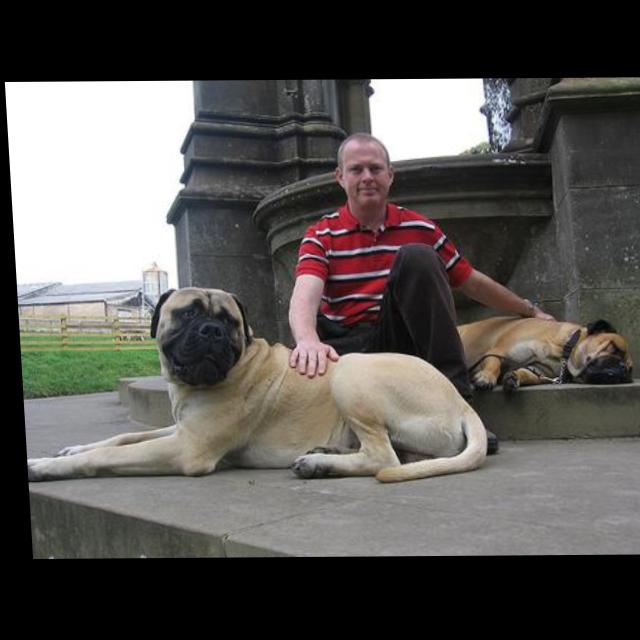bullmastiff: (14, 284, 488, 486), (451, 315, 630, 392)
face: (151, 287, 242, 385), (340, 144, 388, 206)
person: (273, 132, 558, 455)
